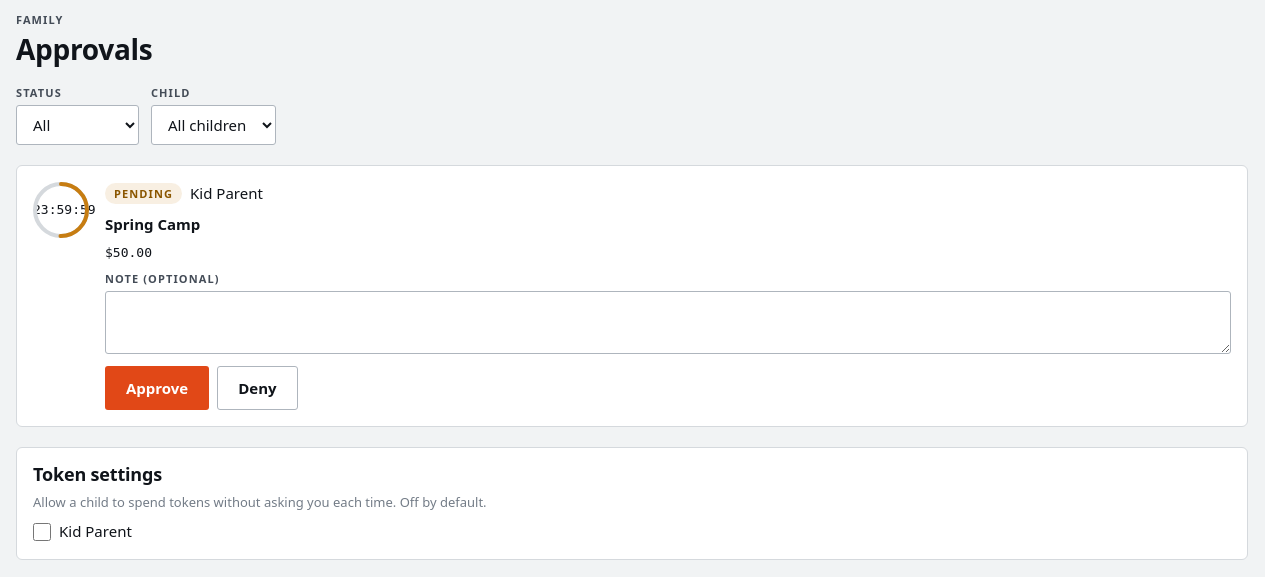
Test case: Approvals (FR-024, M3) › approves a request and reflects the server status
Click the button "Approve": [157, 388] box [105,366,209,410]
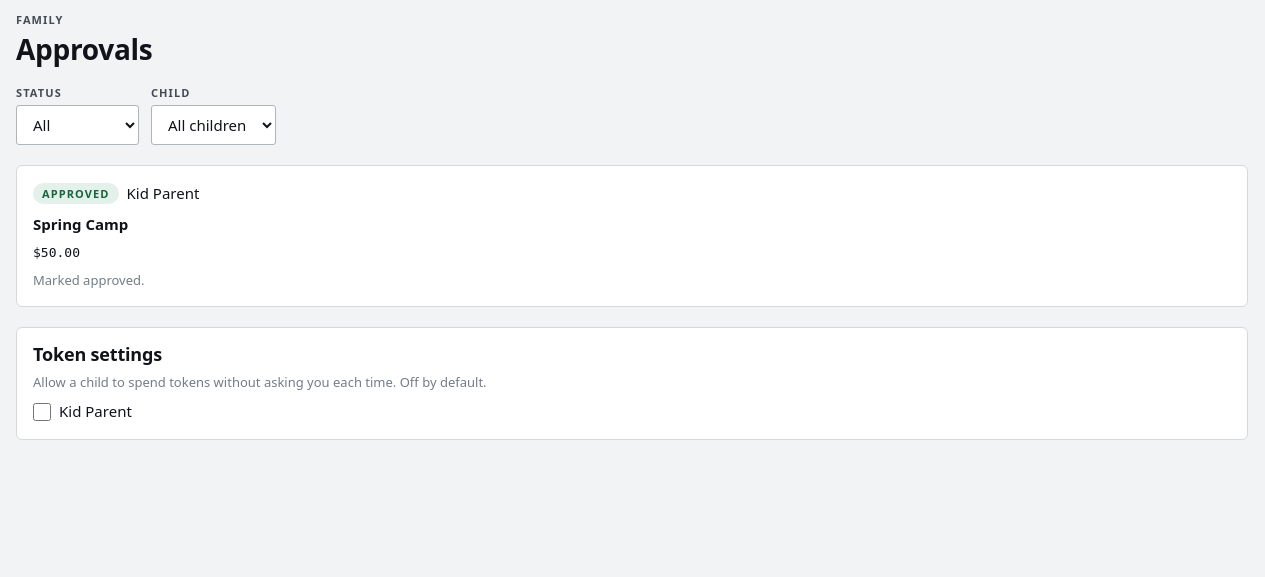
Expected: the text "Marked approved." is shown, [33,271,144,289]
